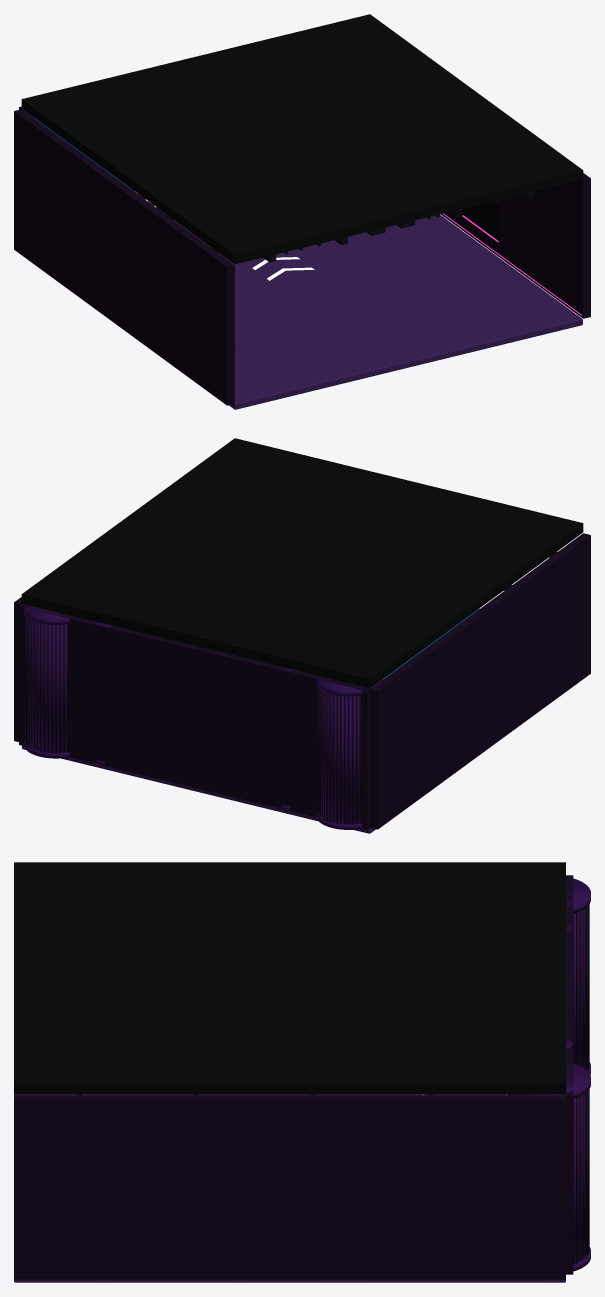
The model's file is Xingtong_Dance_Studio_Neon.glb.
The picture shows the model from 3 angles, top to bottom: view 1: azimuth 30°, elevation 25°; view 2: azimuth 150°, elevation 25°; view 3: azimuth 270°, elevation 25°; orthographic projection. The views are drawn at different scales.
Visible parts, largest first — view 1: Ceiling dark structure, Stage deck 10 x 10.6 m, Left wall inferred forward extent, Right wall inferred forward extent, Right inset digital wall panel; view 2: Ceiling dark structure, Rear wall continuous substrate, Left wall inferred forward extent, Outer fluted column core, Outer fluted column core.001, Stage deck 10 x 10.6 m, Right wall inferred forward extent; view 3: Ceiling dark structure, Right wall inferred forward extent, Rear wall continuous substrate, Stage deck 10 x 10.6 m, Outer fluted column core.001, Outer fluted column core.
Boxes of the visible parts, x1,y1,x2,y2 form: Ceiling dark structure: [21, 14, 583, 264]; Stage deck 10 x 10.6 m: [173, 214, 582, 409]; Left wall inferred forward extent: [14, 109, 234, 405]; Right wall inferred forward extent: [440, 173, 590, 318]; Right inset digital wall panel: [463, 199, 500, 242]; Ceiling dark structure: [21, 438, 583, 688]; Rear wall continuous substrate: [19, 603, 371, 829]; Left wall inferred forward extent: [370, 533, 590, 829]; Outer fluted column core: [319, 676, 359, 824]; Outer fluted column core.001: [26, 604, 73, 752]; Stage deck 10 x 10.6 m: [22, 680, 381, 833]; Right wall inferred forward extent: [14, 597, 21, 741]; Ceiling dark structure: [14, 862, 565, 1094]; Right wall inferred forward extent: [14, 1095, 565, 1279]; Rear wall continuous substrate: [562, 875, 573, 1274]; Stage deck 10 x 10.6 m: [14, 1094, 565, 1282]; Outer fluted column core.001: [512, 1063, 588, 1263]; Outer fluted column core: [566, 878, 588, 1068].
Bounding box in the file's own units: 10.44 × 4.26 × 11.08.
14 materials, 14 textured.
